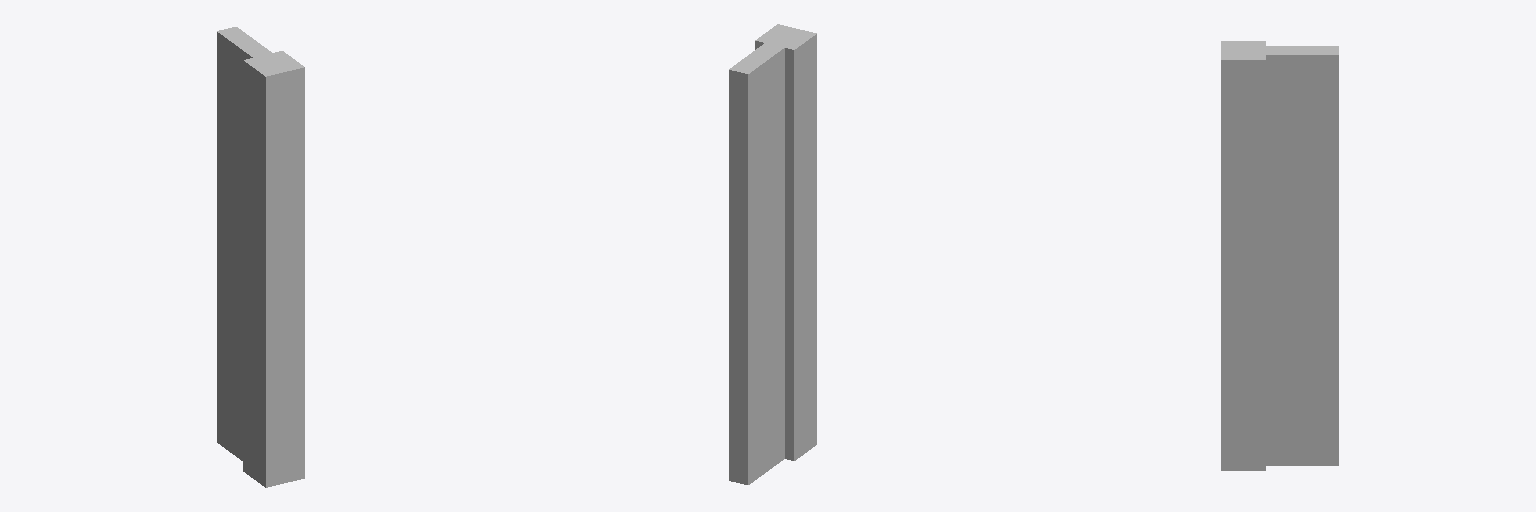
Rendered from wall-side.obj.
3 renders of one model, left to right at view 1: azimuth 30°, elevation 25°; view 2: azimuth 150°, elevation 25°; view 3: azimuth 270°, elevation 25°, orthographic.
Visible parts, largest first — view 1: wall-side; view 2: wall-side; view 3: wall-side.
Part boxes in pixels (x1,y1,x2,y2): wall-side: (217,27,304,487); wall-side: (729,24,816,484); wall-side: (1221,41,1338,470).
Bounding box in the file's own units: 0.1 × 1 × 0.26.